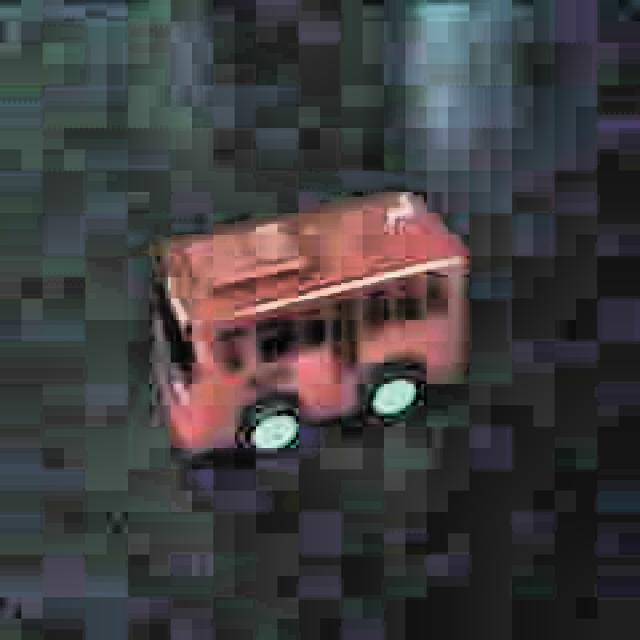bus: (146, 180, 490, 470)
